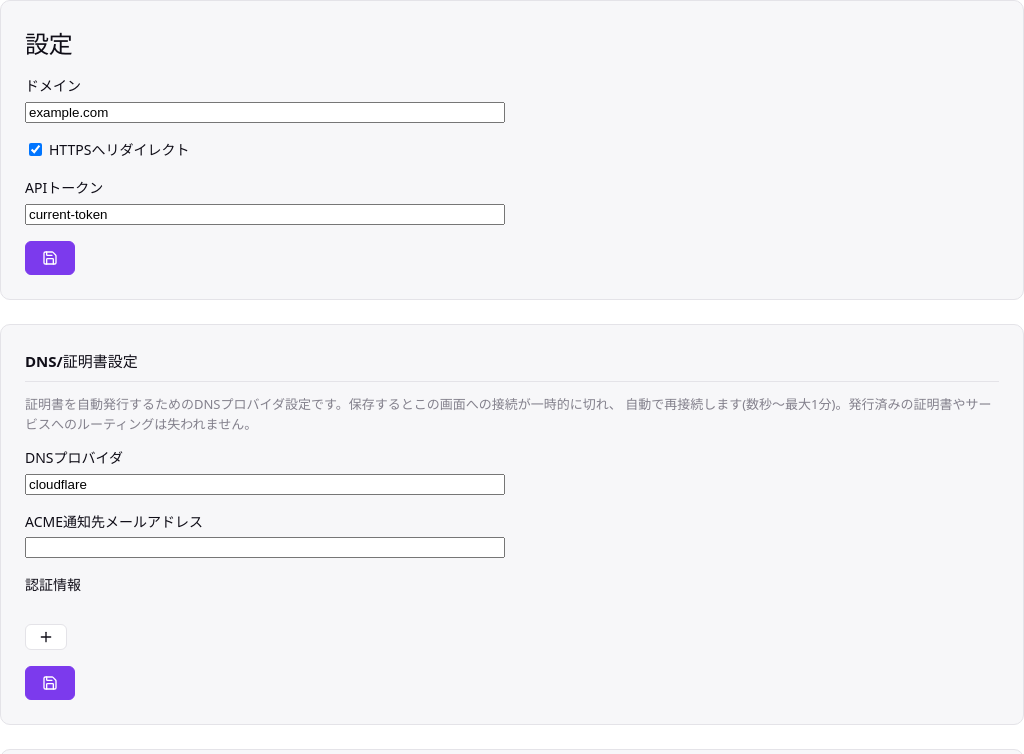
SettingsPage › バリデーションエラー時はフィールドごとのエラーメッセージを表示する
Expected: the field labelled "ドメイン" is shown, 25,102 -> 505,123
Click the button named "基本設定を保存". click: (50, 258)
box: 25,241 -> 75,275
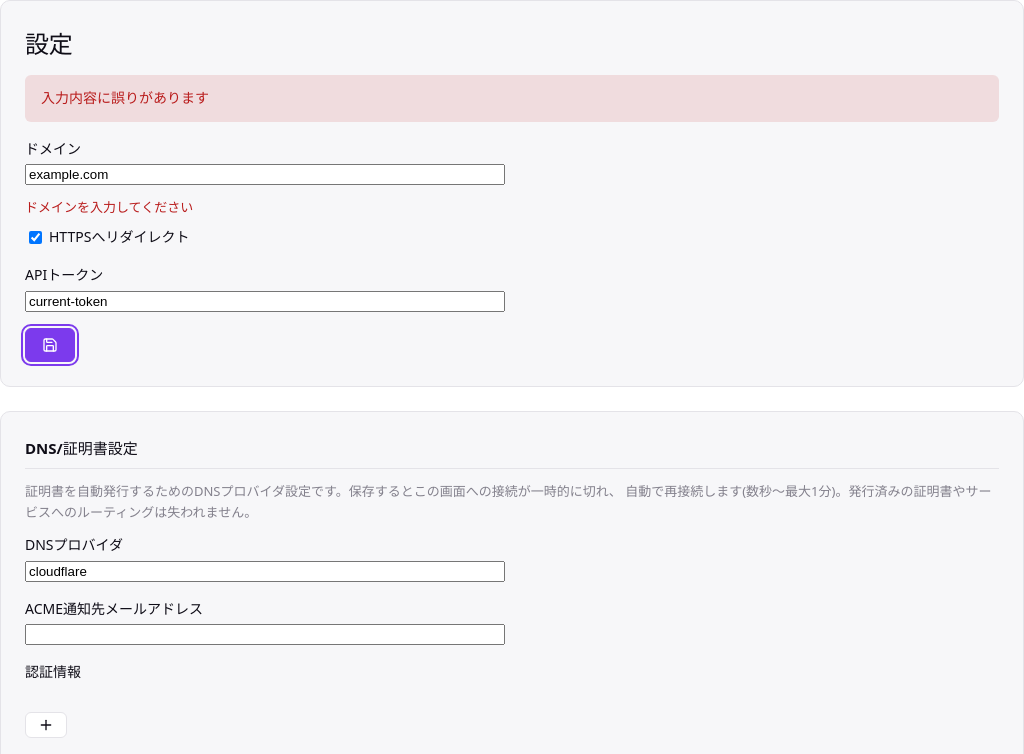
Result: the text "ドメインを入力してください" is shown at 25,198 -> 193,216
